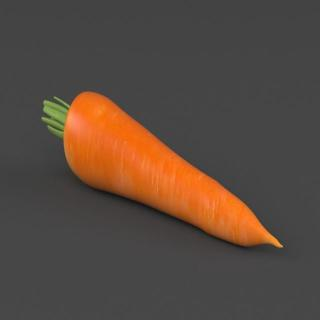carrot: (62, 87, 284, 255)
